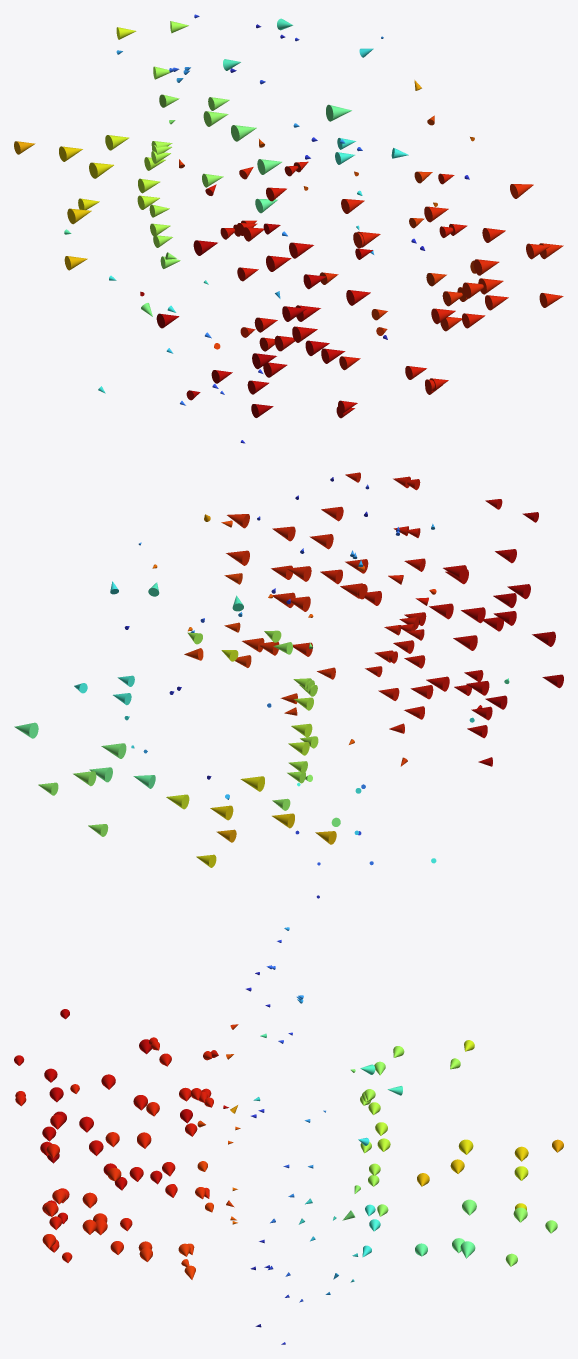
File: LineasCorrienteH2-O2_mh2-2.70_V-0.8.glb
3 views of the same model, one above another, from view 1: azimuth 30°, elevation 25°; view 2: azimuth 150°, elevation 25°; view 3: azimuth 270°, elevation 25° (orthographic). The views are drawn at different scales.
Bounding box in the file's own units: 0.00091 × 0.000952 × 0.00124.
2 materials, 2 textured.
